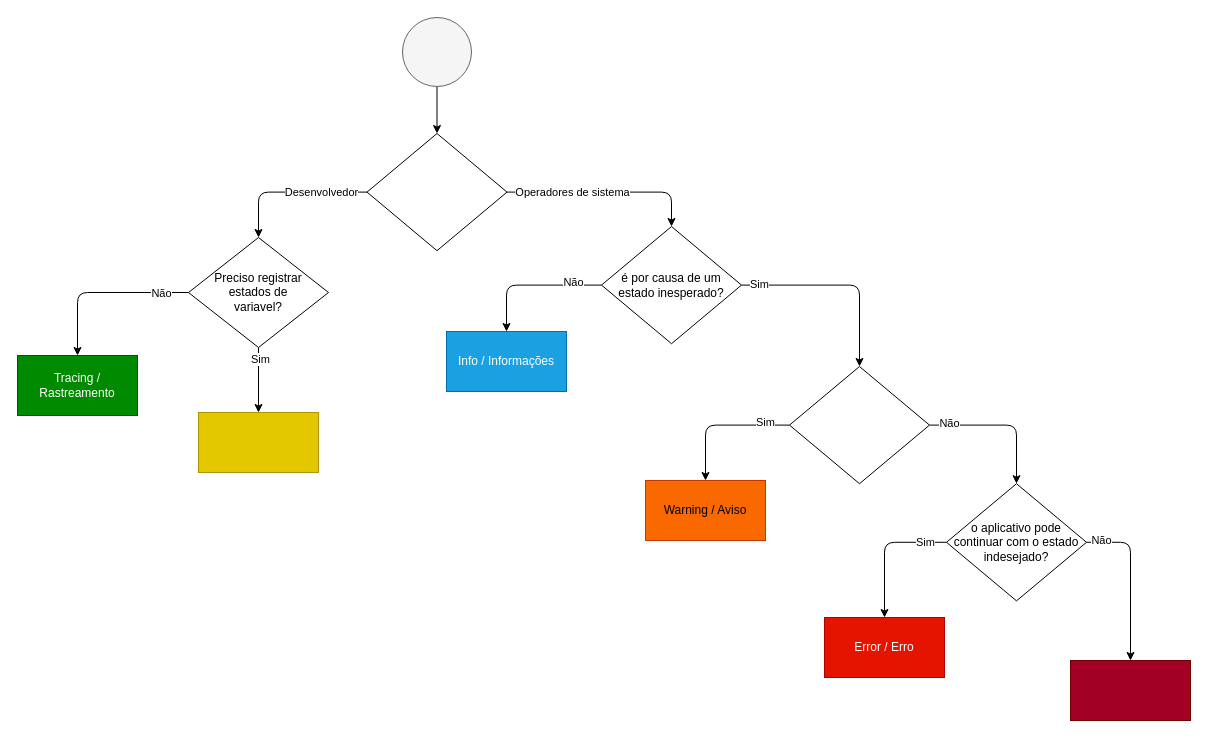
Image size: 1208x738. Some labels were removed from this diagram. Each missing label, with the centre of its shape:
"Debug" goes at [258,442].
"Fatal / Critico" goes at [1130,690].
"o processo pode continuar com o estado indesejado?" goes at [859,425].
"Para quem estou escrevendo o log?" goes at [436,191].
